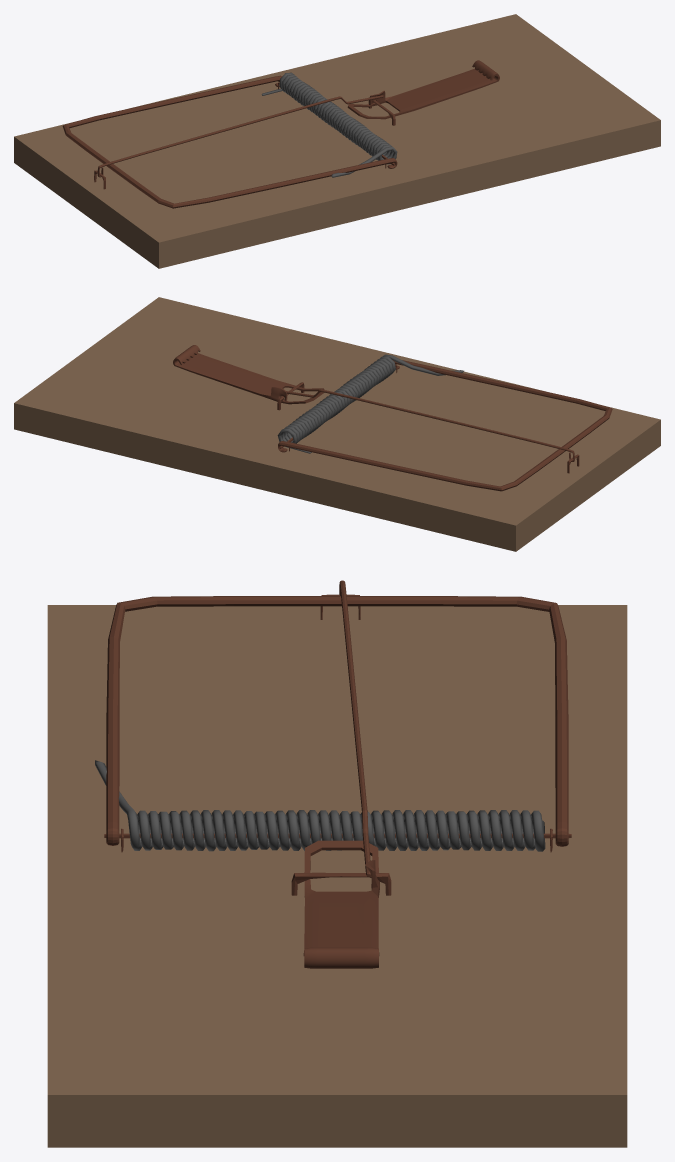
3 renders of one model, top to bottom at view 1: azimuth 30°, elevation 25°; view 2: azimuth 150°, elevation 25°; view 3: azimuth 270°, elevation 25°, orthographic. The views are drawn at different scales.
Parts seen in each view (by area): view 1: Platform, Hammer, Spring, Trip, HoldingBar; view 2: Platform, Hammer, Spring, Trip, HoldingBar; view 3: Platform, Spring, Hammer, Trip, HoldingBar.
Part boxes in pixels (x1,y1,x2,y2): Platform: [14, 14, 660, 268]; Hammer: [62, 75, 397, 208]; Spring: [261, 72, 397, 177]; Trip: [347, 60, 499, 119]; HoldingBar: [97, 95, 383, 177]; Platform: [14, 297, 660, 551]; Hammer: [278, 360, 612, 491]; Spring: [277, 354, 463, 453]; Trip: [173, 345, 324, 404]; HoldingBar: [286, 389, 574, 461]; Platform: [47, 605, 627, 1147]; Spring: [95, 760, 545, 851]; Hammer: [106, 596, 568, 846]; Trip: [303, 840, 379, 968]; HoldingBar: [339, 580, 370, 876].
Bounding box in the file's own units: 4 × 0.3879 × 2.
